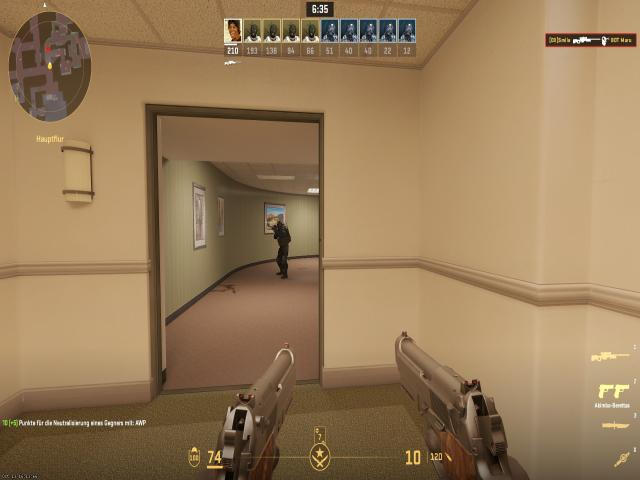CT: (275, 219, 289, 275)
CT-Head: (275, 221, 284, 229)
